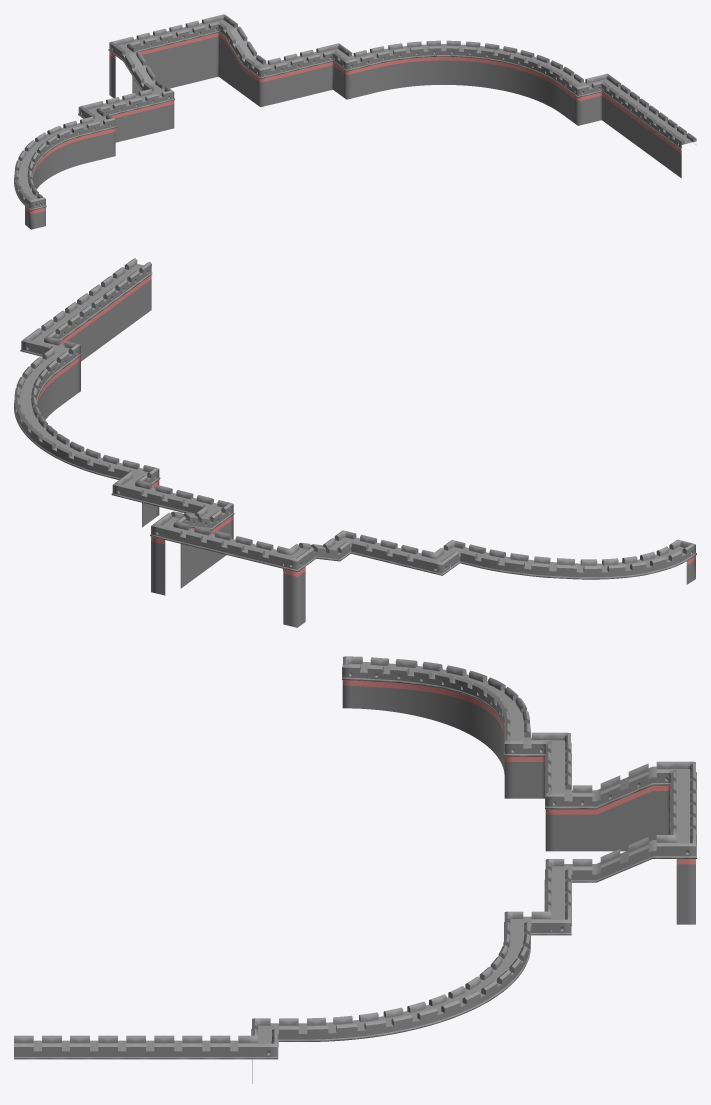
File: CHN_StadiumWalls01.gltf
3 renders of one model, top to bottom at view 1: azimuth 30°, elevation 25°; view 2: azimuth 150°, elevation 25°; view 3: azimuth 270°, elevation 25°, orthographic. The views are drawn at different scales.
Parts seen in each view (by area): view 1: CHN_StadiumWalls01; view 2: CHN_StadiumWalls01; view 3: CHN_StadiumWalls01.
Part boxes in pixels (x1,y1,x2,y2): CHN_StadiumWalls01: (14,14,696,229); CHN_StadiumWalls01: (14,258,696,627); CHN_StadiumWalls01: (14,656,696,1083).
Size of the model in its own units: 153 by 14.09 by 109.
